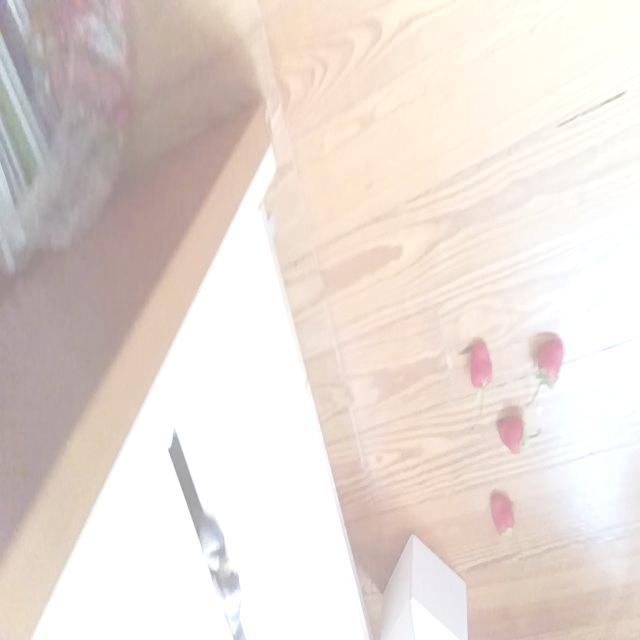ripe: (463, 340, 500, 400), (531, 340, 568, 400), (491, 410, 531, 463), (486, 489, 520, 541)
